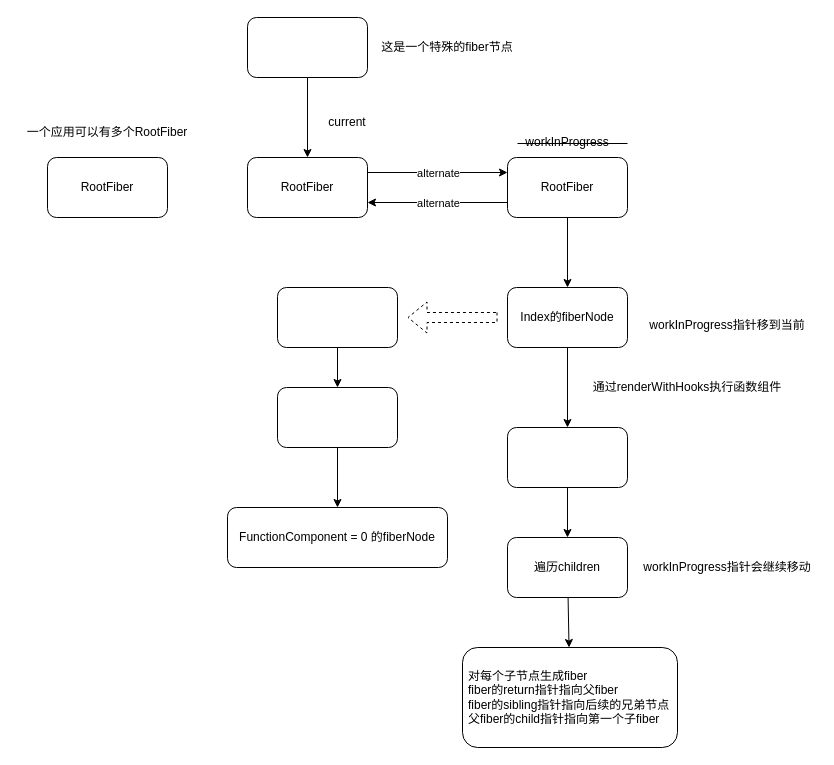
The diagram is 834 pixels wide and 765 high, and some of its shapes have lost their labels. Here are the shapes that lost their labels. From the top down, the box of each, then its label:
(246, 16, 368, 78): 应用根节点创建fiberRoot
(276, 286, 398, 348): Index入口组件
(276, 386, 398, 448): React.createElement创建成Element元素
(506, 426, 628, 488): 得到子代children: Array<Element>
